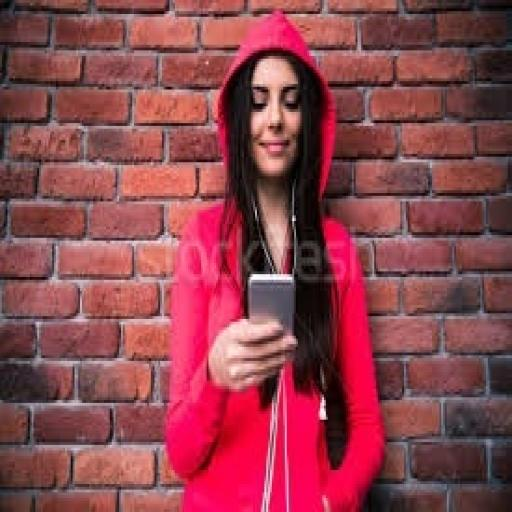texting: (162, 8, 387, 510)
